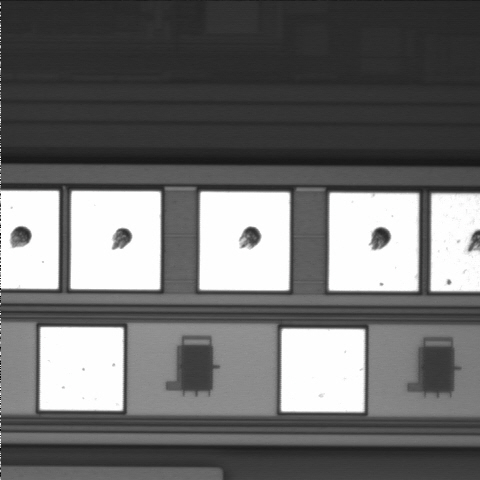pad: (71, 191, 161, 290), (200, 192, 290, 290), (329, 193, 419, 291), (40, 327, 123, 411), (281, 329, 365, 412)
